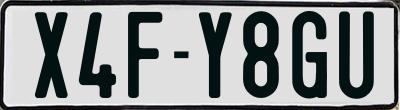4: (76, 11, 117, 97)
8: (240, 10, 278, 102)
F: (128, 10, 167, 96)
G: (291, 9, 330, 97)
U: (336, 8, 372, 96)
X: (35, 12, 71, 99)
Y: (197, 9, 231, 97)
